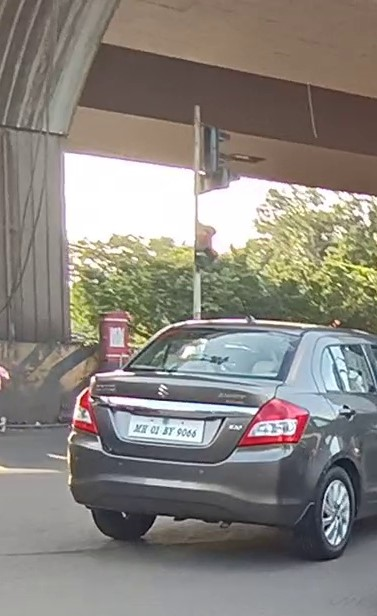MH01BT9066: (128, 414, 205, 444)
